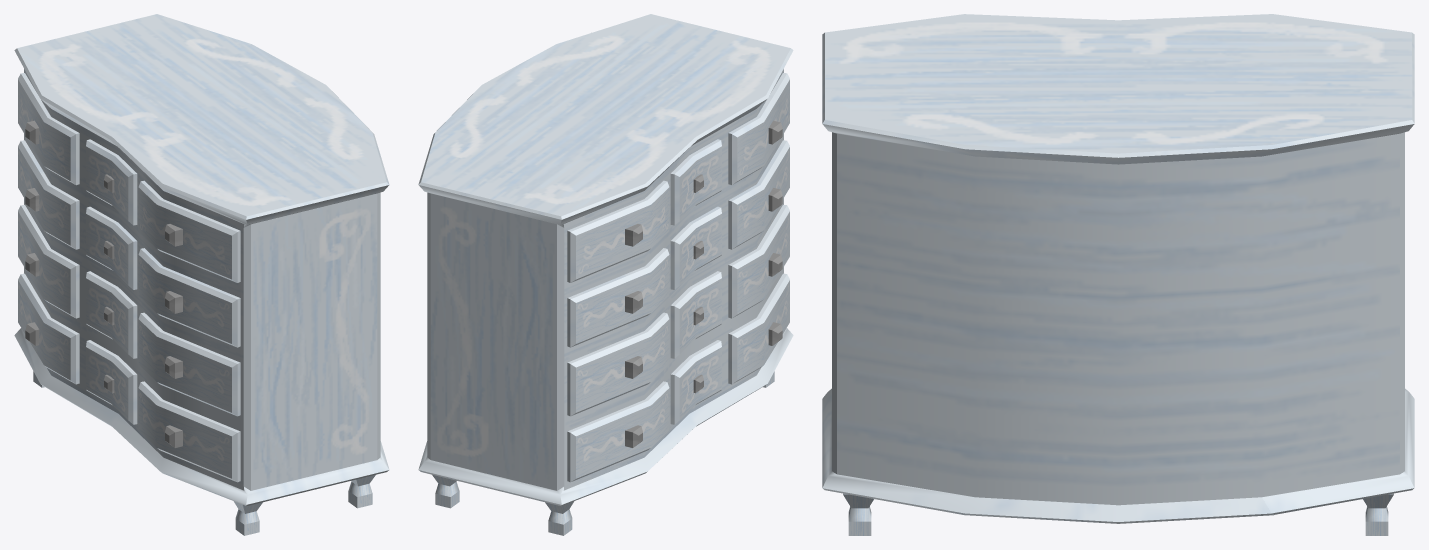
Rendered from Dresser_Entry_02.fbx.
The picture shows the model from 3 angles, left to right: view 1: azimuth 30°, elevation 25°; view 2: azimuth 150°, elevation 25°; view 3: azimuth 270°, elevation 25°; orthographic projection. The views are drawn at different scales.
Parts seen in each view (by area): view 1: Dresser_02, Leg_02, Leg_03; view 2: Dresser_02, Leg_01, Leg_04; view 3: Dresser_02, Leg_04, Leg_03.
Part boxes in pixels (x1,y1,x2,y2): Dresser_02: (14, 14, 389, 505); Leg_02: (234, 501, 262, 535); Leg_03: (348, 475, 375, 508); Dresser_02: (418, 14, 793, 505); Leg_01: (545, 501, 573, 535); Leg_04: (432, 475, 459, 508); Dresser_02: (822, 14, 1414, 523); Leg_04: (1363, 493, 1393, 535); Leg_03: (843, 493, 873, 535).
Size of the model in its own units: 0.5942 by 0.807 by 1.03.
